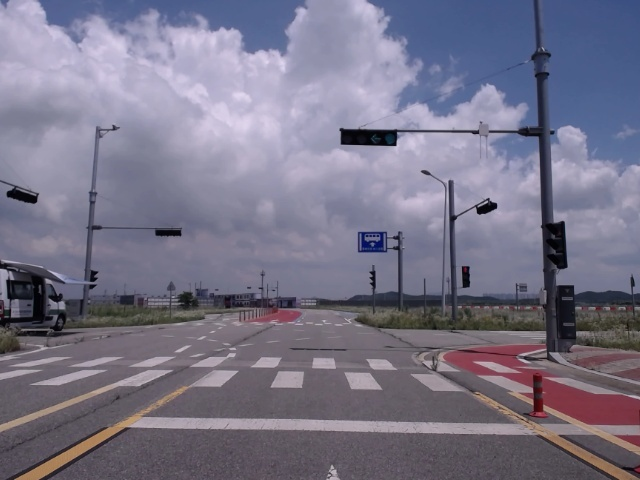all_green_4: (341, 127, 403, 148)
